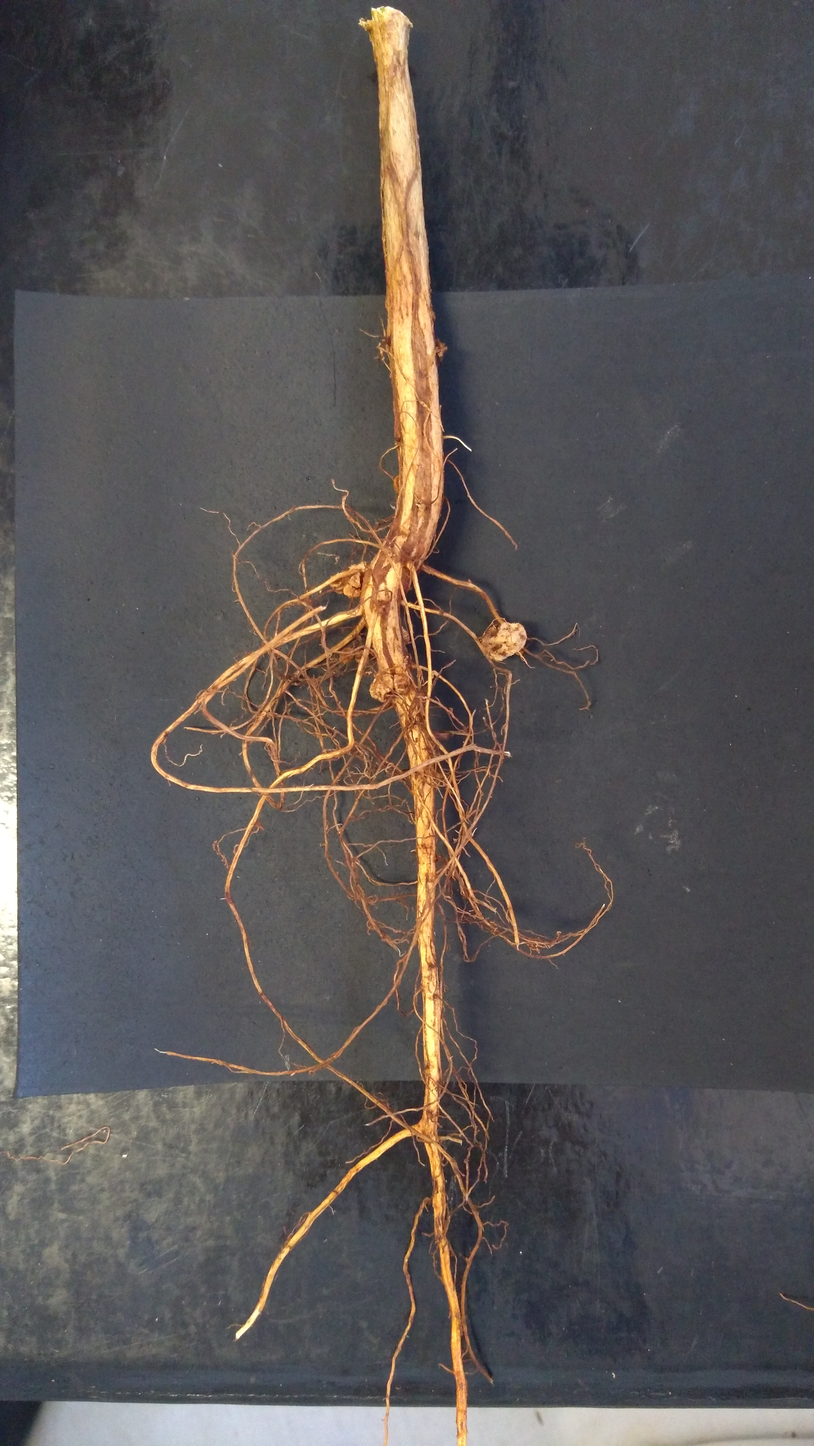nodule: (481, 622, 528, 662), (368, 671, 395, 704), (327, 570, 351, 595), (393, 672, 412, 696), (347, 571, 365, 590), (339, 647, 355, 665), (342, 583, 361, 598), (353, 649, 369, 666), (435, 339, 449, 358), (377, 338, 390, 353), (393, 474, 402, 494), (401, 626, 410, 643), (415, 502, 427, 512), (390, 501, 400, 510), (394, 666, 404, 674), (556, 931, 562, 936)
